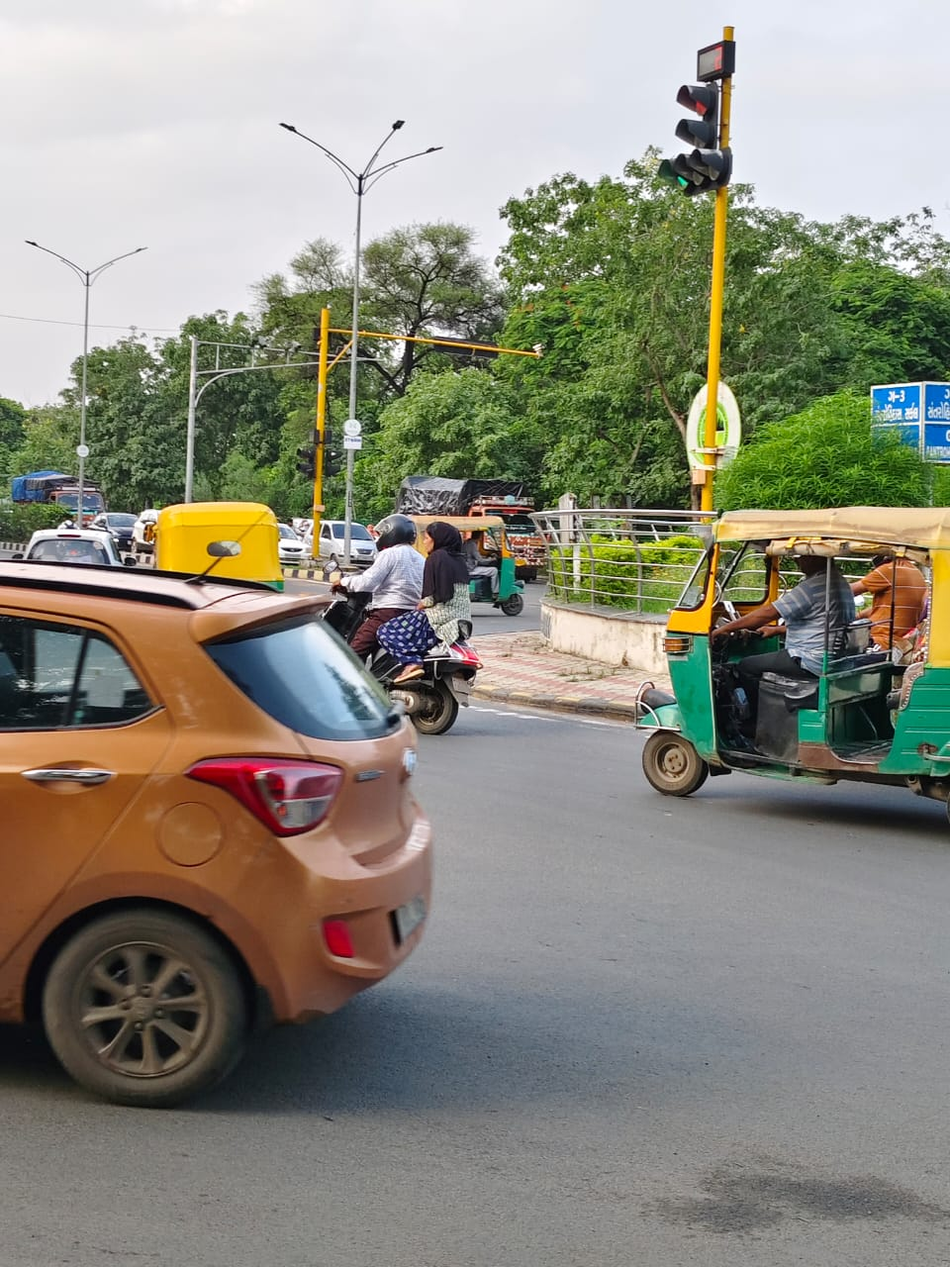BikeWithRider: (318, 509, 491, 739)
Helmet: (371, 508, 420, 553)
NoHelmet: (419, 516, 468, 561)
